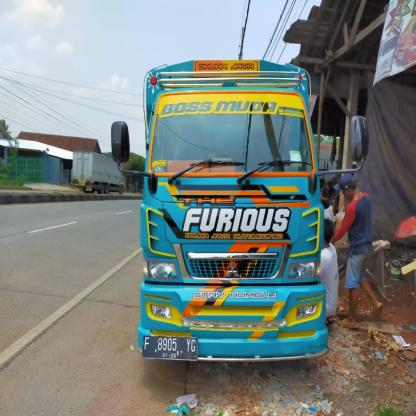truck: (112, 60, 369, 364)
